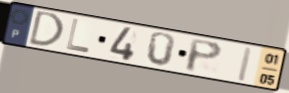0: (145, 32, 178, 68)
4: (108, 25, 137, 62)
D: (26, 9, 66, 49)
I: (234, 45, 256, 84)
L: (64, 17, 92, 55)
P: (185, 37, 225, 74)
